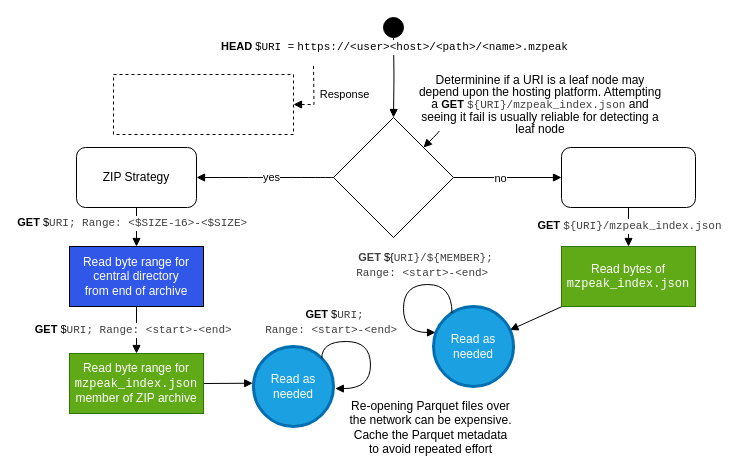
Image size: 738x475. Some labels were removed from this diagram. Here are the shapes that lost their labels. From the top down, the centre of each, then its label:
point (203, 104): HTTP/2 200 ... accept-ranges: bytes content-length: <$SIZE>
point (393, 177): Is $URI a leaf node name?
point (628, 177): Unpacked Strategy
